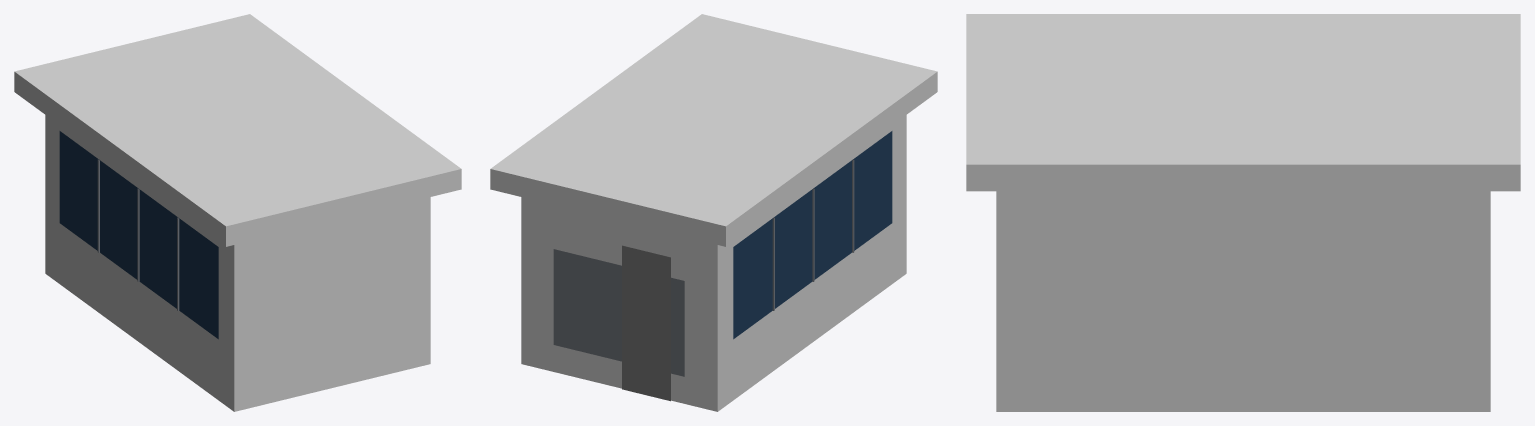
Rendered from roofprop_close.fbx.
3 renders of one model, left to right at view 1: azimuth 30°, elevation 25°; view 2: azimuth 150°, elevation 25°; view 3: azimuth 270°, elevation 25°, orthographic. The views are drawn at different scales.
Visible parts, largest first — view 1: a2002/400/roofprop_close; view 2: a2002/400/roofprop_close; view 3: a2002/400/roofprop_close.
Part boxes in pixels (box(x1,y1,x2,y2)): a2002/400/roofprop_close: box(14, 14, 461, 411); a2002/400/roofprop_close: box(490, 14, 937, 411); a2002/400/roofprop_close: box(966, 14, 1520, 411).
Size of the model in its own units: 3.6 by 2.9 by 5.6.
